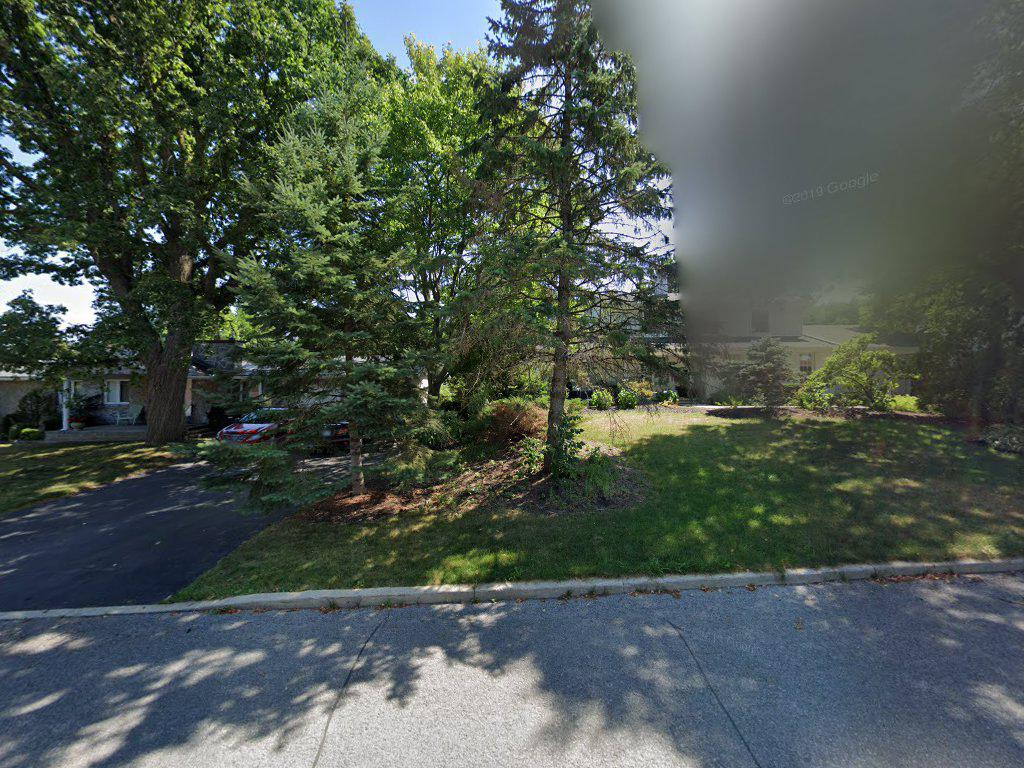trunk: (122, 289, 202, 458)
